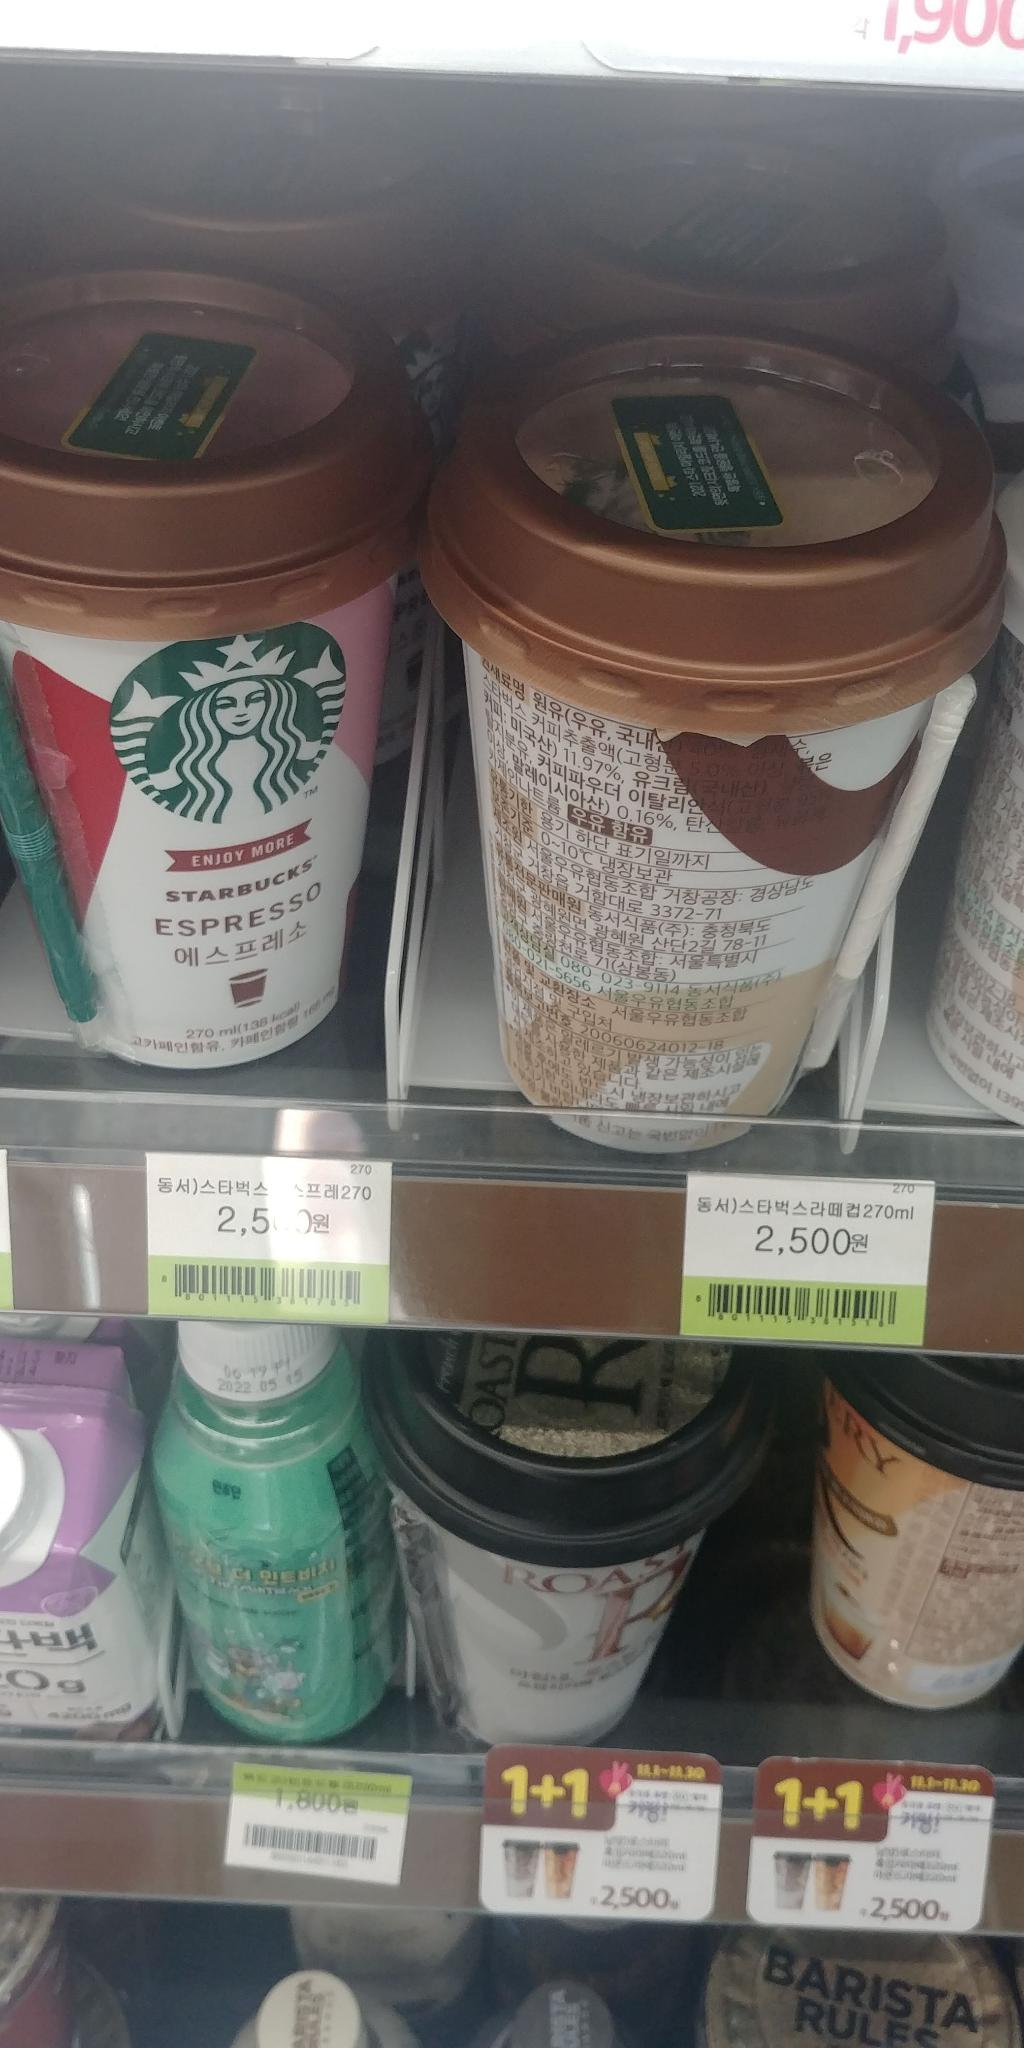starbucks_cafelatte: (430, 303, 1007, 1173)
